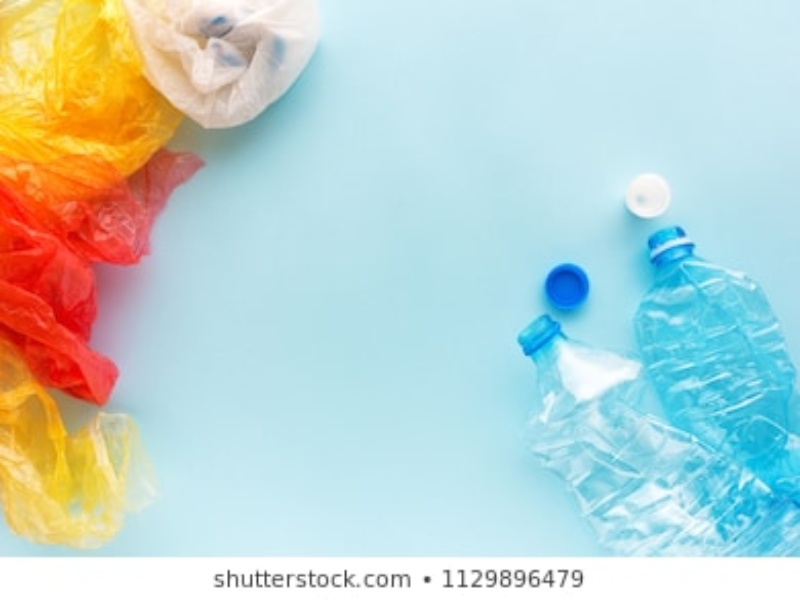bottle-cap: (620, 170, 680, 227), (541, 263, 596, 314)
plastic-bag: (1, 144, 209, 409), (9, 1, 208, 195), (127, 2, 340, 132), (1, 347, 123, 552)
plastic-bottle: (507, 316, 781, 557), (630, 222, 800, 505)
